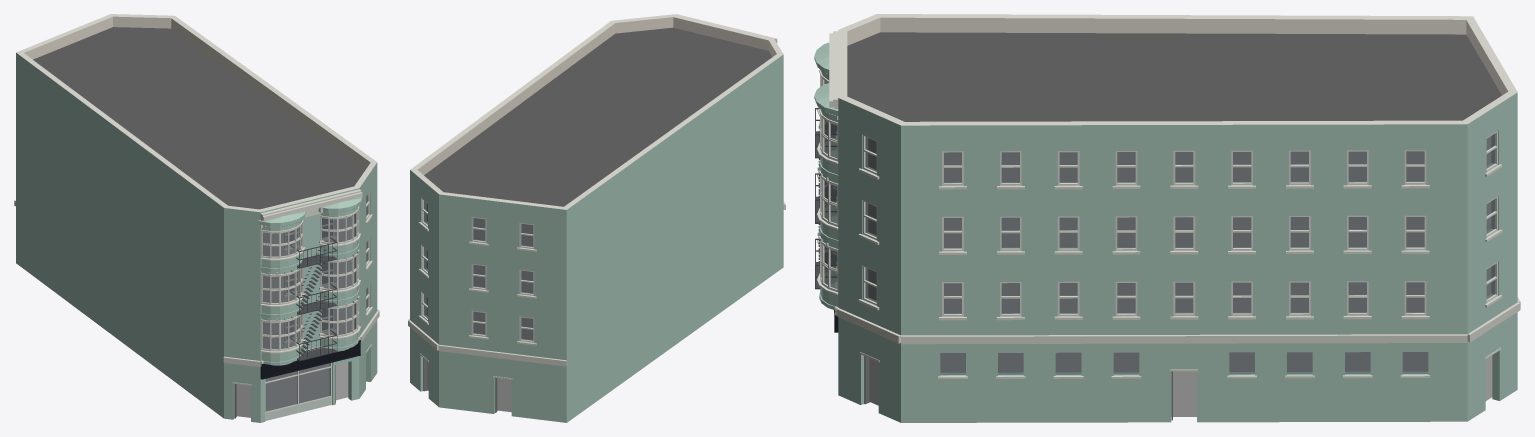
Rendered from exterior.glb.
3 renders of one model, left to right at view 1: azimuth 30°, elevation 25°; view 2: azimuth 150°, elevation 25°; view 3: azimuth 270°, elevation 25°, orthographic. The views are drawn at different scales.
Visible parts, largest first — view 1: shell, roof, bay-glazing-hyb, shadow-proxy, bay-windows-hyb, trim, glazing, fire-escape, storefront, frames; view 2: shell, roof, shadow-proxy, glazing, trim, frames; view 3: shell, roof, glazing, shadow-proxy, trim, frames, bay-glazing-hyb, bay-windows-hyb, fire-escape.
Boxes of the visible parts, x1,y1,x2,y2 form: shell: (16, 14, 377, 422); roof: (33, 27, 365, 209); bay-glazing-hyb: (260, 206, 360, 353); shadow-proxy: (236, 216, 350, 417); bay-windows-hyb: (258, 197, 362, 365); trim: (14, 189, 379, 379); glazing: (265, 195, 367, 411); fire-escape: (291, 237, 337, 361); storefront: (232, 344, 371, 420); frames: (284, 191, 369, 341); shell: (410, 14, 783, 422); roof: (424, 27, 772, 206); shadow-proxy: (427, 203, 532, 412); glazing: (424, 201, 533, 340); trim: (408, 14, 785, 366); frames: (421, 198, 534, 342); shell: (838, 14, 1517, 422); roof: (847, 32, 1501, 121); glazing: (865, 134, 1494, 374); shadow-proxy: (868, 136, 1492, 416); trim: (829, 31, 1520, 378); frames: (863, 131, 1497, 316); bay-glazing-hyb: (817, 69, 838, 294); bay-windows-hyb: (814, 42, 838, 309); fire-escape: (815, 108, 836, 289).
Size of the model in its own units: 10.49 by 12.78 by 27.51.
